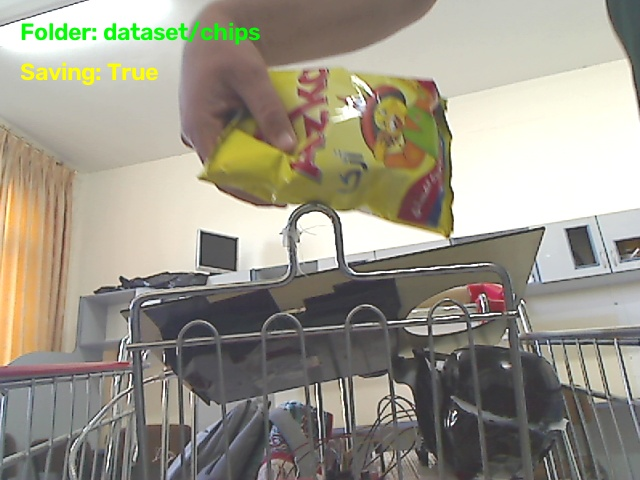chips: (200, 68, 452, 236)
